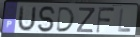D: (55, 7, 76, 33)
F: (95, 6, 116, 35)
L: (117, 8, 132, 33)
S: (37, 5, 57, 34)
U: (16, 5, 38, 33)
Z: (76, 7, 96, 34)
